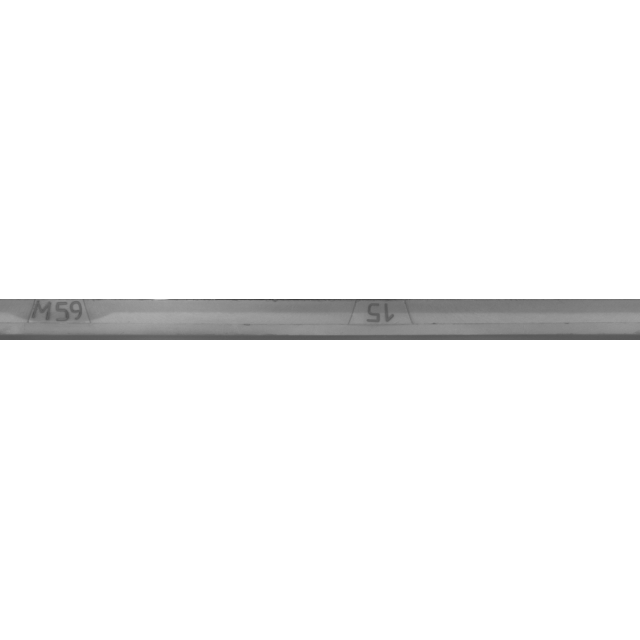mohao: (0, 270, 150, 370)
xuehao: (278, 270, 478, 370)
